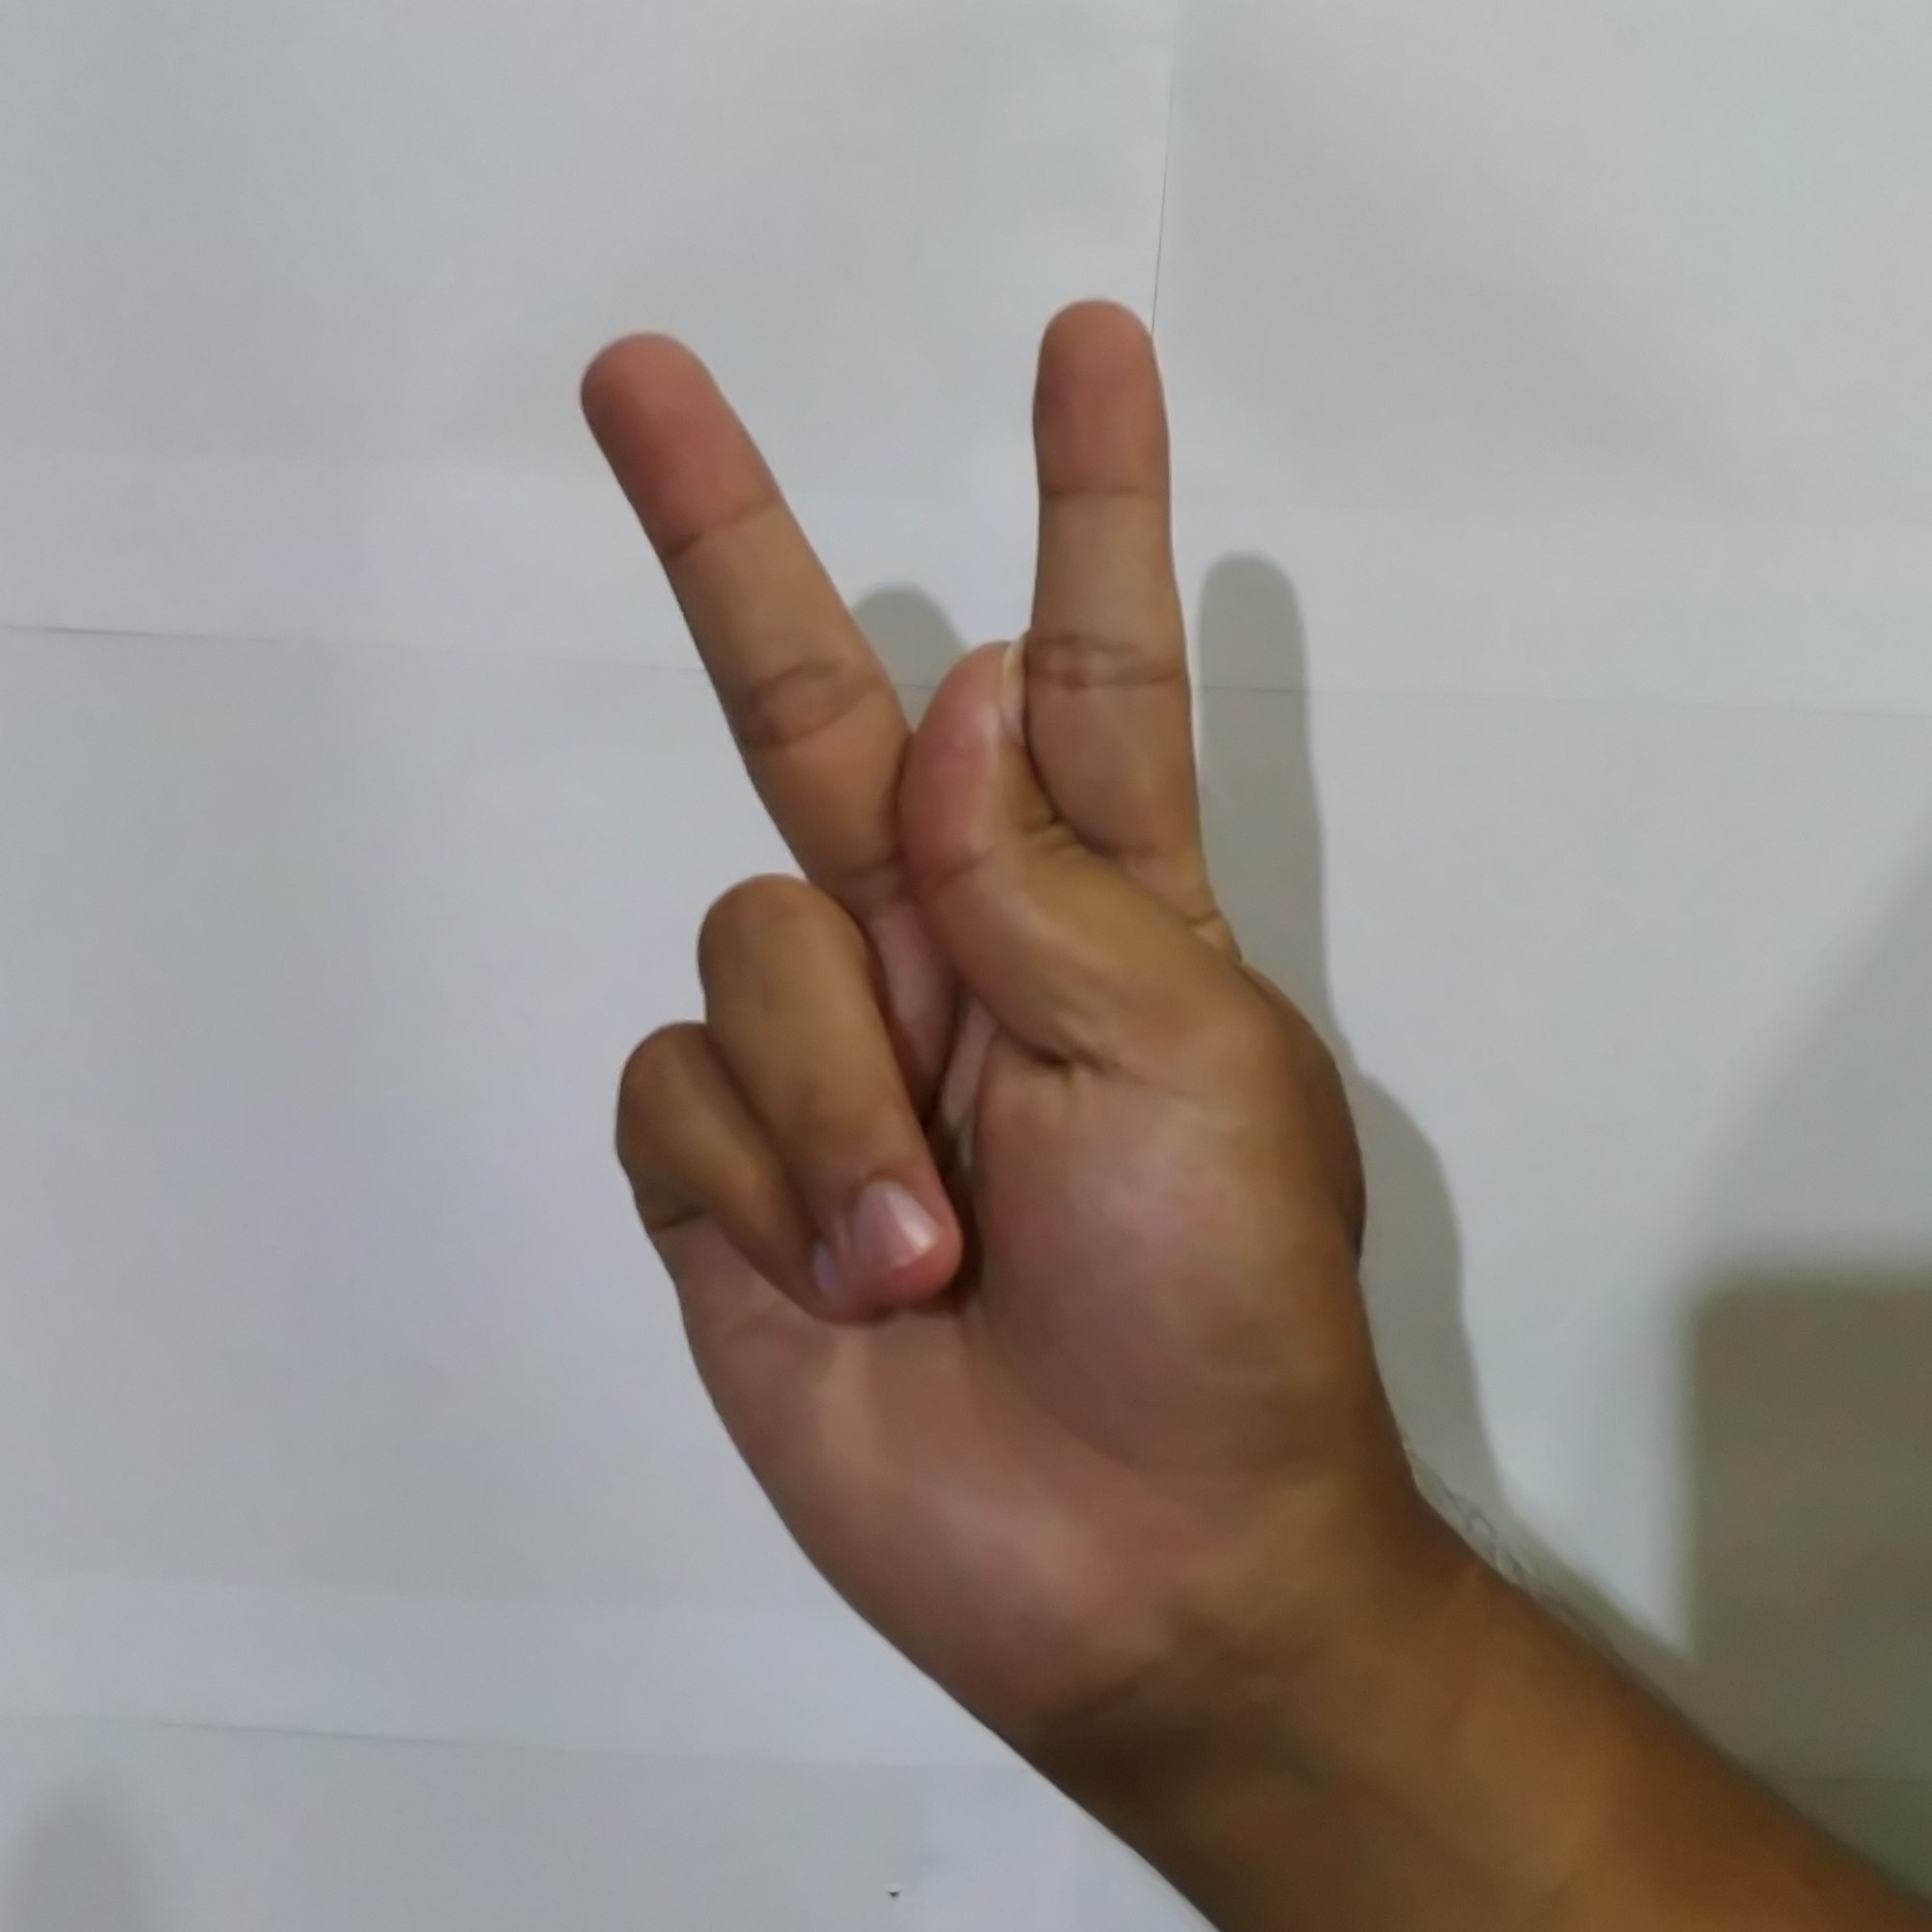K: (533, 271, 1417, 1723)
